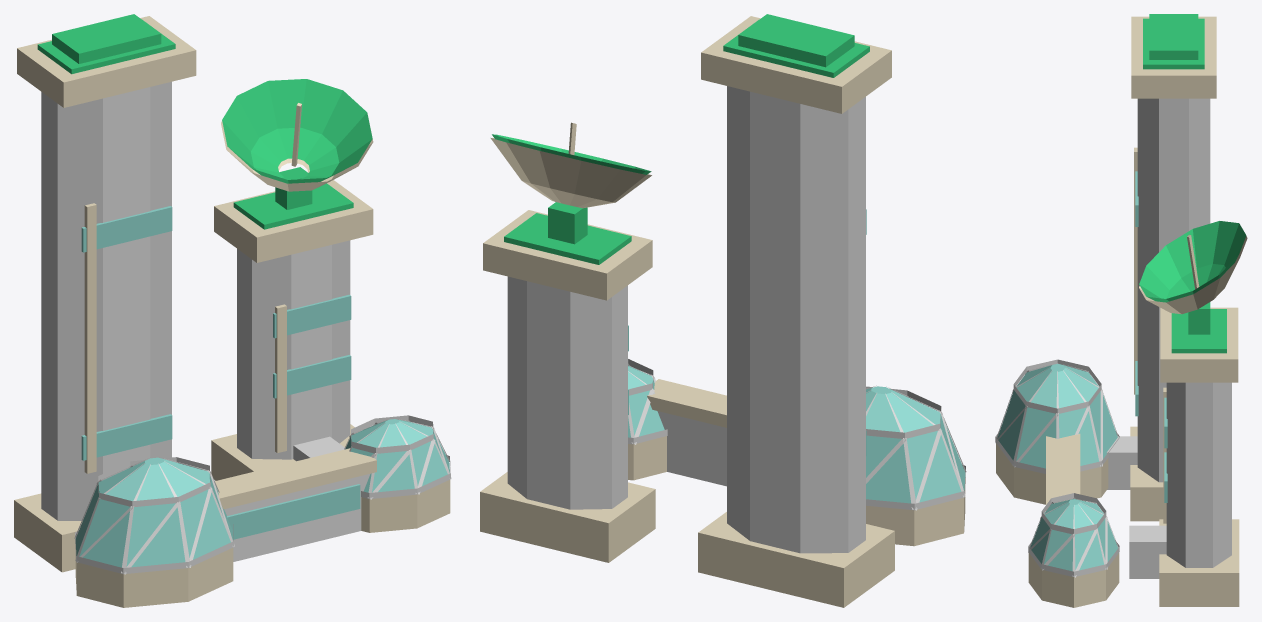
The model's file is space_capital_academy.glb.
The picture shows the model from 3 angles, left to right: view 1: azimuth 30°, elevation 25°; view 2: azimuth 150°, elevation 25°; view 3: azimuth 270°, elevation 25°; orthographic projection. The views are drawn at different scales.
Visible parts, largest first — view 1: WoodBody, FixedDetails, BrassTrim; view 2: WoodBody, FixedDetails, BrassTrim; view 3: WoodBody, FixedDetails, BrassTrim.
Boxes of the visible parts, <box> form: WoodBody: <box>41,81,451,574</box>; FixedDetails: <box>14,16,450,607</box>; BrassTrim: <box>37,14,372,229</box>; WoodBody: <box>507,86,966,553</box>; FixedDetails: <box>480,16,965,607</box>; BrassTrim: <box>492,14,869,264</box>; WoodBody: <box>995,98,1231,578</box>; FixedDetails: <box>996,16,1247,607</box>; BrassTrim: <box>1139,14,1246,353</box>.
Bounding box in the file's own units: 0.3973 × 0.4996 × 0.249.
